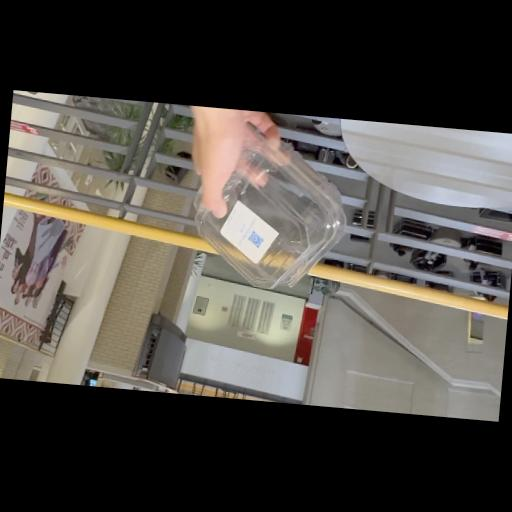small_plastic_container: (179, 126, 355, 298)
